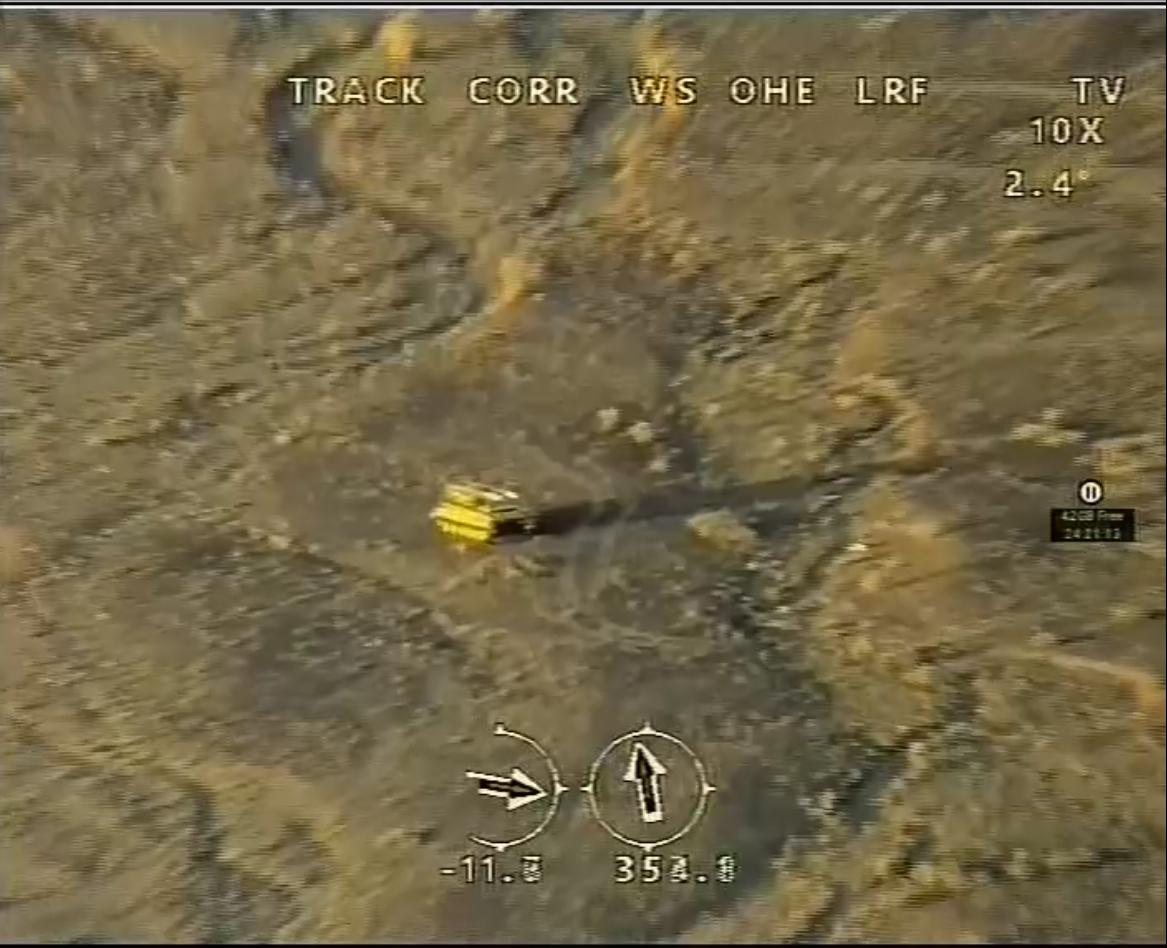armored_car: (422, 475, 546, 551)
